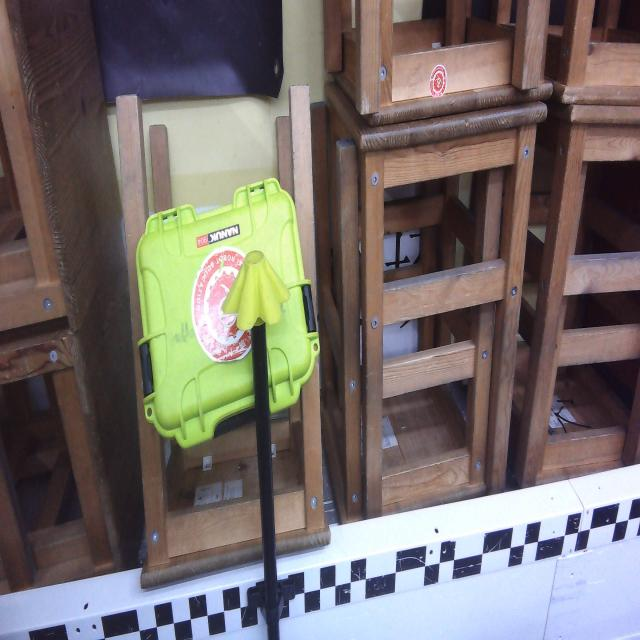Yellow-Stake-Head: (221, 250, 291, 331)
